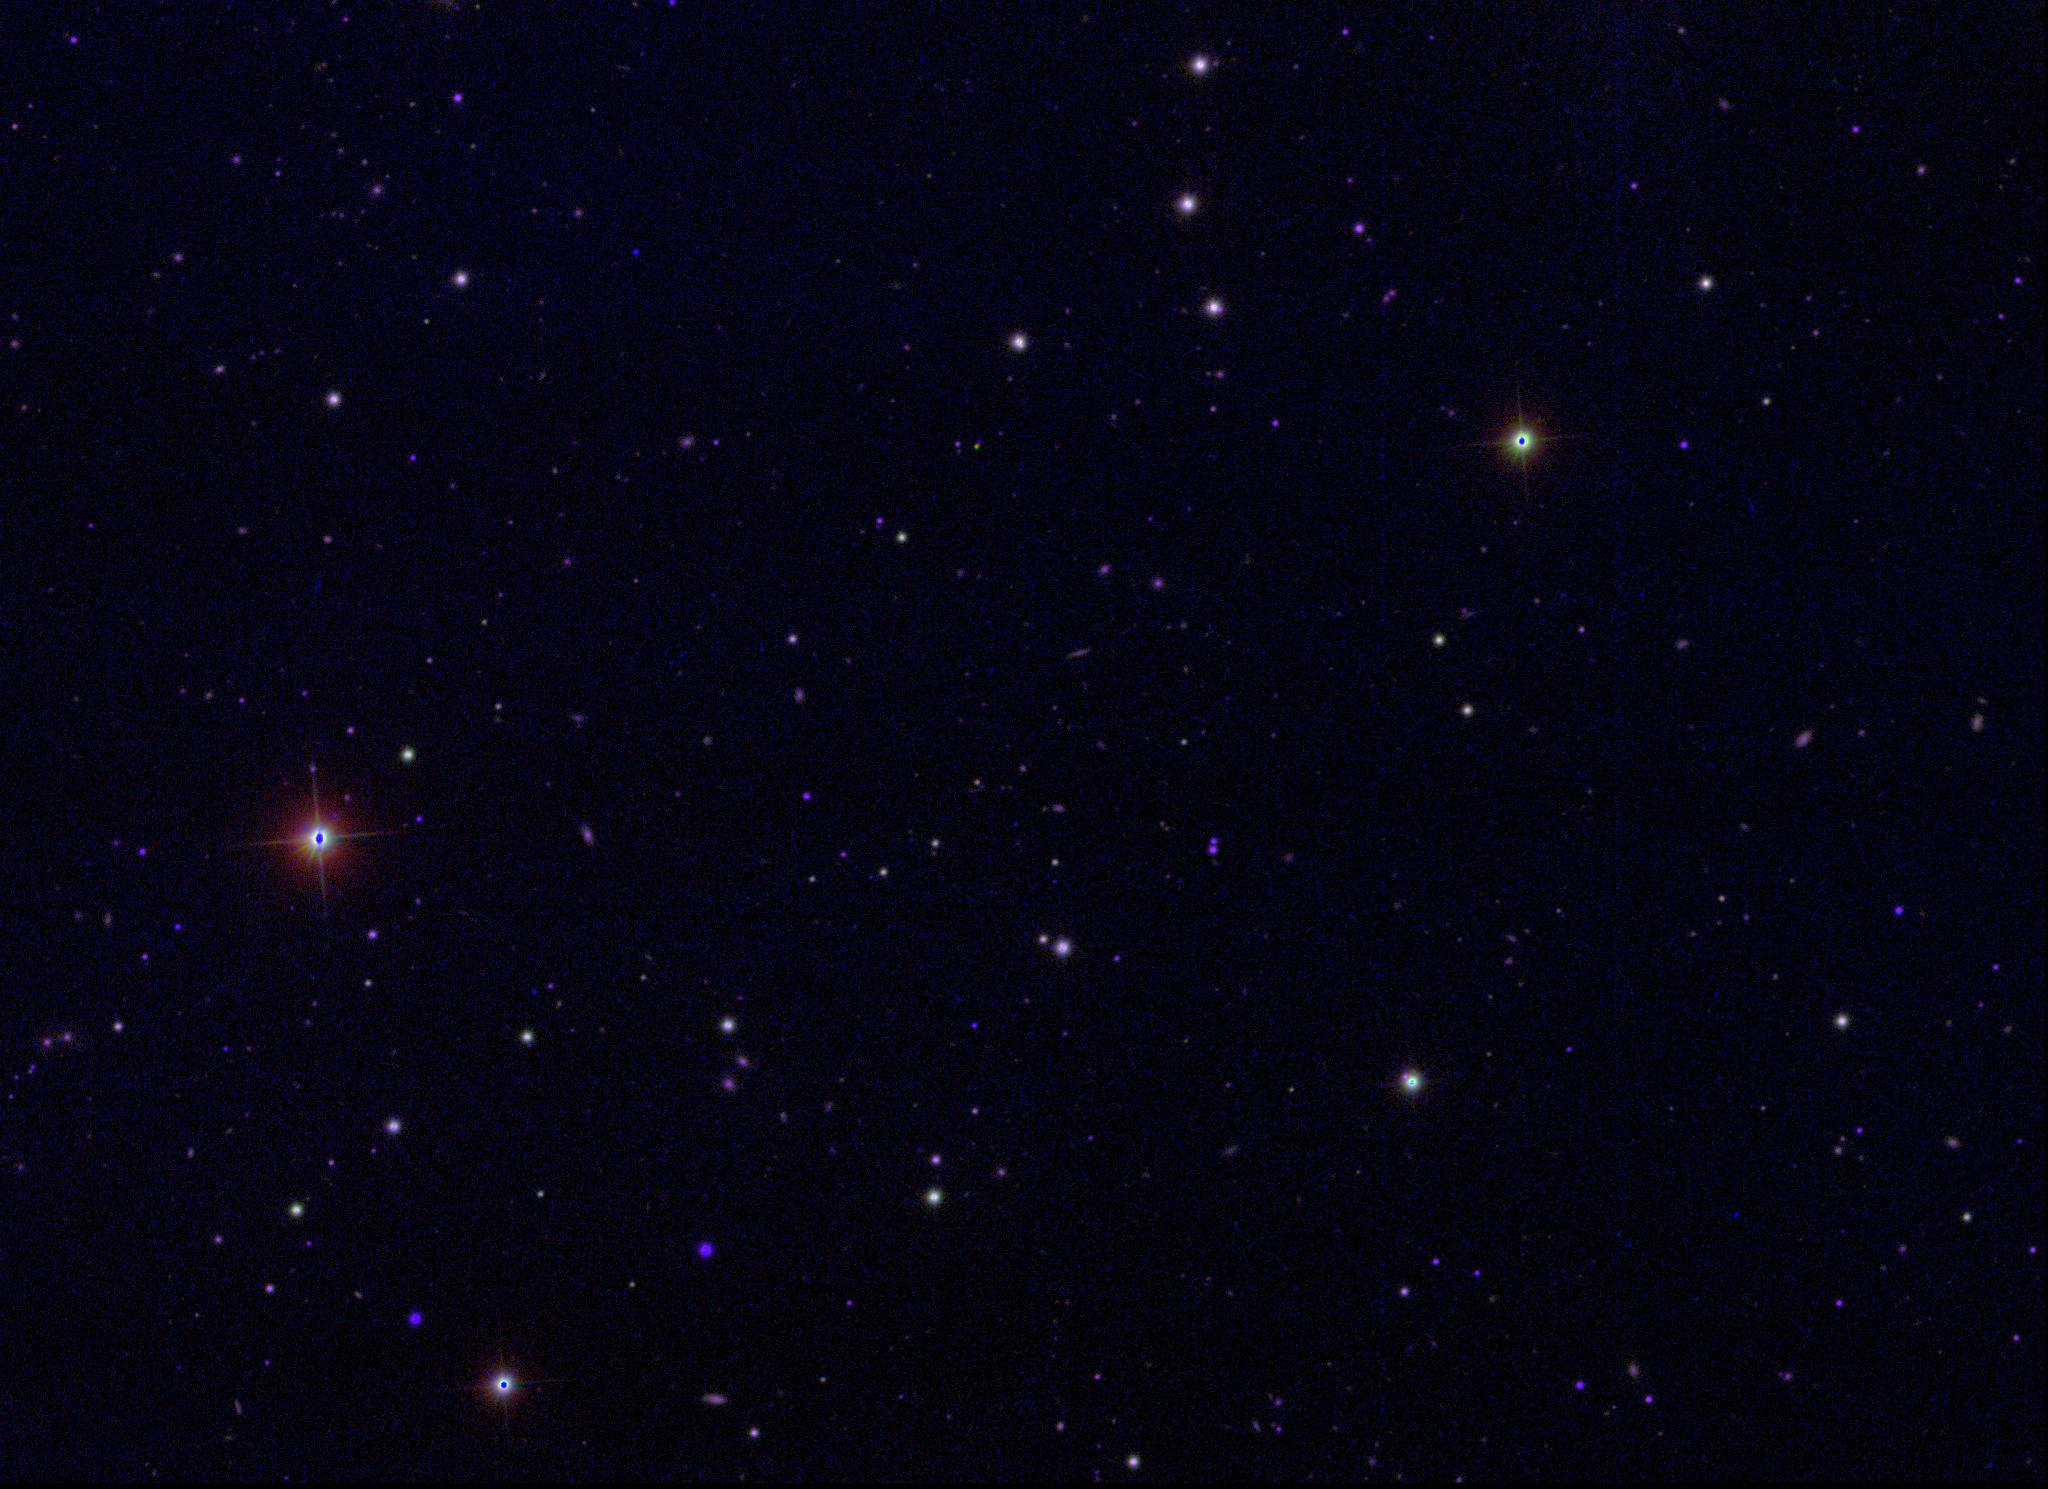L: (630, 243, 642, 258)
